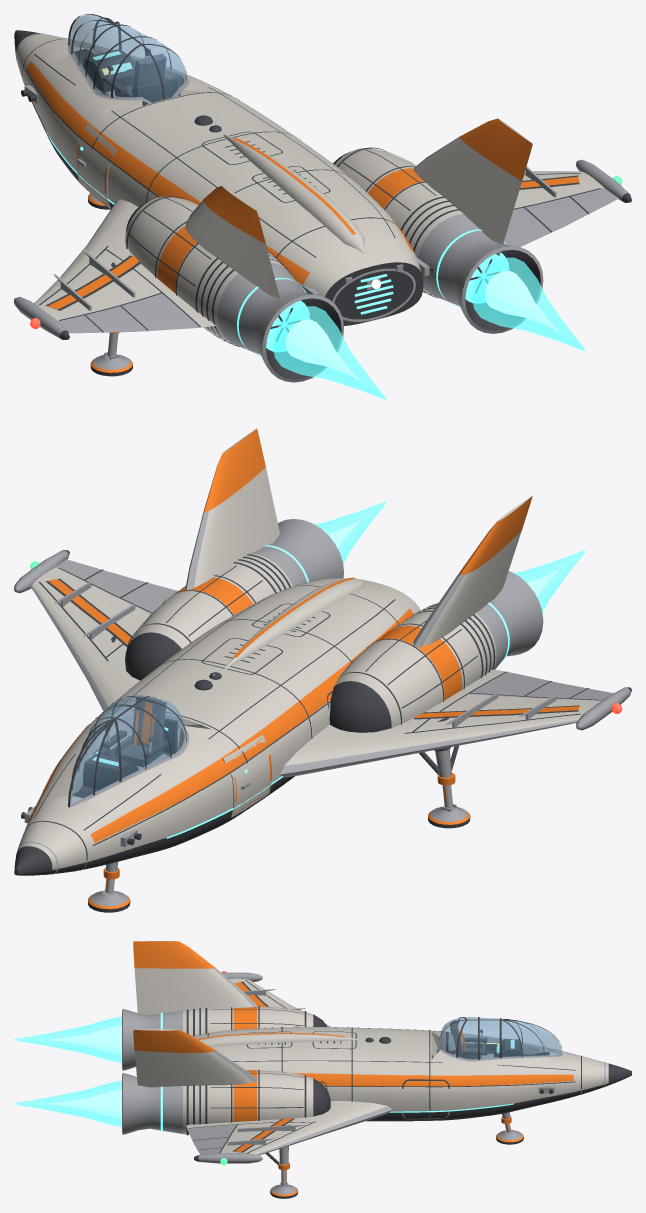
Rendered from ship_player.glb.
3 renders of one model, top to bottom at view 1: azimuth 30°, elevation 25°; view 2: azimuth 150°, elevation 25°; view 3: azimuth 270°, elevation 25°, orthographic. The views are drawn at different scales.
Visible parts, largest first — view 1: Hull, Engine_L, Engine_R, Canopy, EngineGlow_L, EngineGlow_R, CockpitInterior, RampDoor, Gear_L; view 2: Hull, Engine_L, Engine_R, Canopy, CockpitInterior, RampDoor, Gear_L, EngineGlow_L, EngineGlow_R, Gear_Front; view 3: Hull, Engine_R, Engine_L, Canopy, EngineGlow_R, EngineGlow_L, CockpitInterior, Gear_R, Gear_Front.
Boxes of the visible parts, box(x1,y1,x2,y2) form: Hull: box(14, 14, 631, 339); Engine_L: box(125, 196, 343, 382); Engine_R: box(333, 147, 543, 333); Canopy: box(69, 15, 186, 103); EngineGlow_L: box(272, 306, 386, 399); EngineGlow_R: box(472, 257, 585, 350); CockpitInterior: box(83, 48, 177, 105); RampDoor: box(76, 123, 116, 208); Gear_L: box(90, 262, 132, 376); Hull: box(14, 428, 631, 875); Engine_L: box(329, 571, 543, 732); Engine_R: box(125, 519, 343, 680); Canopy: box(70, 694, 186, 805); CockpitInterior: box(83, 696, 177, 789); RampDoor: box(222, 734, 272, 817); Gear_L: box(419, 718, 470, 828); EngineGlow_L: box(514, 550, 585, 612); EngineGlow_R: box(314, 501, 386, 563); Gear_Front: box(88, 862, 130, 912); Hull: box(133, 941, 631, 1163); Engine_R: box(122, 1070, 330, 1135); Engine_L: box(122, 1006, 327, 1070); Canopy: box(437, 1017, 562, 1059); EngineGlow_R: box(14, 1080, 121, 1126); EngineGlow_L: box(14, 1016, 121, 1062); CockpitInterior: box(446, 1020, 521, 1059); Gear_R: box(265, 1125, 297, 1198); Gear_Front: box(496, 1112, 523, 1144).
Size of the model in its own units: 11.56 by 4.38 by 15.9.
